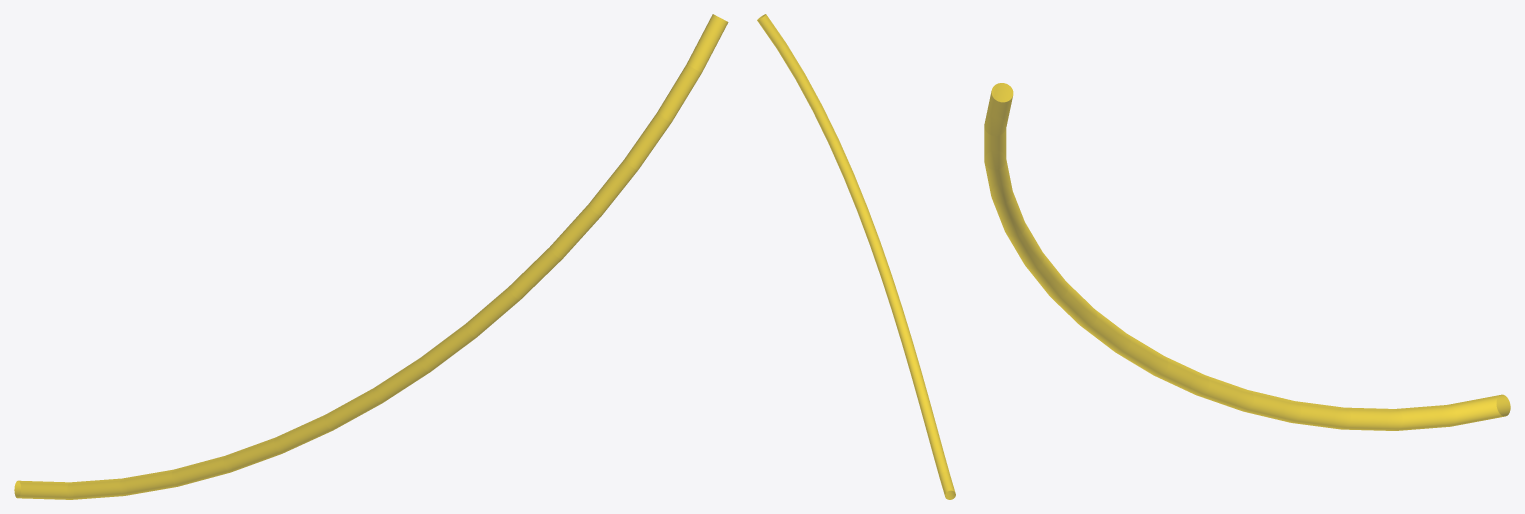
Rendered from Event_100608114_track_127.fbx.
The picture shows the model from 3 angles, left to right: view 1: azimuth 30°, elevation 25°; view 2: azimuth 150°, elevation 25°; view 3: azimuth 270°, elevation 25°; orthographic projection. The views are drawn at different scales.
Parts seen in each view (by area): view 1: Model; view 2: Model; view 3: Model.
Part boxes in pixels (bbox=[...]): Model: bbox=[14, 14, 728, 499]; Model: bbox=[757, 14, 955, 499]; Model: bbox=[984, 83, 1510, 430].
Bounding box in the file's own units: 1.34 × 1.26 × 0.9494.
